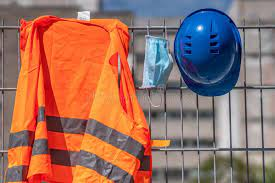Helmet: (174, 14, 243, 94)
Jacket: (16, 15, 137, 183)
Mask: (141, 33, 171, 94)
